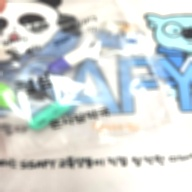씨엠지세파클러캡슐: (47, 50, 87, 76)
에르도캡슐: (28, 100, 71, 131)
휴티렌정: (0, 83, 18, 108)
